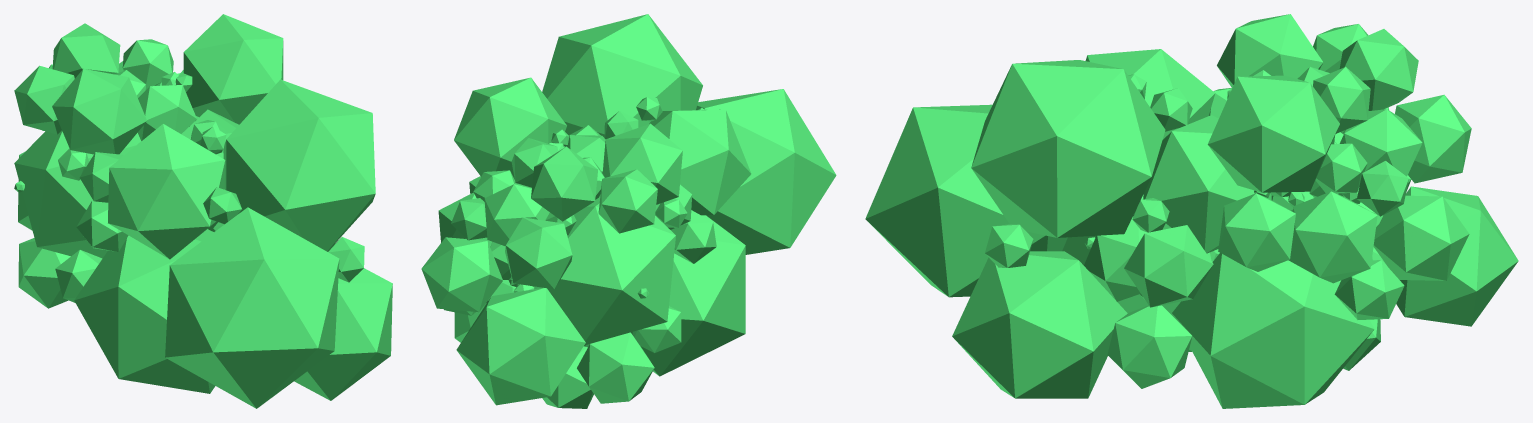
The model's file is bush.fbx.
3 views of the same model, side by side, from view 1: azimuth 30°, elevation 25°; view 2: azimuth 150°, elevation 25°; view 3: azimuth 270°, elevation 25° (orthographic). The views are drawn at different scales.
Visible parts, largest first — view 1: Platonic_52, Platonic_74, Platonic_46, Platonic_64, Platonic_4, Platonic_58, Platonic_42, Platonic_1_67, Platonic_1_69, Platonic_1_57, Platonic_40, Platonic_18 (+10 smaller); view 2: Platonic_52, Platonic_74, Platonic_42, Platonic_44, Platonic_46, Platonic_4, Platonic_64, Platonic_20, Platonic_1_67, Platonic_40, Platonic_1_21, Platonic_1_69 (+16 smaller); view 3: Platonic_74, Platonic_28, Platonic_58, Platonic_52, Platonic_4, Platonic_44, Platonic_34, Platonic_20, Platonic_22, Platonic_1_5, Platonic_1_23, Platonic_1_67 (+16 smaller).
Boxes of the visible parts, <box> form: Platonic_52: <box>165,207,339,408</box>; Platonic_74: <box>223,79,375,251</box>; Platonic_46: <box>74,229,215,393</box>; Platonic_64: <box>108,124,225,259</box>; Platonic_4: <box>183,14,283,124</box>; Platonic_58: <box>294,268,392,400</box>; Platonic_42: <box>14,130,141,258</box>; Platonic_1_67: <box>52,68,146,154</box>; Platonic_1_69: <box>52,23,120,78</box>; Platonic_1_57: <box>14,65,74,134</box>; Platonic_40: <box>18,238,70,308</box>; Platonic_18: <box>137,85,196,140</box>; Platonic_52: <box>696,89,836,254</box>; Platonic_74: <box>542,14,702,137</box>; Platonic_42: <box>533,194,675,345</box>; Platonic_44: <box>456,287,585,405</box>; Platonic_46: <box>631,215,745,376</box>; Platonic_4: <box>454,77,566,179</box>; Platonic_64: <box>649,109,751,215</box>; Platonic_20: <box>421,237,502,312</box>; Platonic_1_67: <box>602,123,682,204</box>; Platonic_40: <box>577,332,654,403</box>; Platonic_1_21: <box>505,217,572,289</box>; Platonic_1_69: <box>531,146,597,221</box>; Platonic_74: <box>971,60,1165,237</box>; Platonic_28: <box>1172,253,1374,408</box>; Platonic_58: <box>952,251,1127,398</box>; Platonic_52: <box>865,104,1067,297</box>; Platonic_4: <box>1207,75,1339,192</box>; Platonic_44: <box>1396,186,1518,326</box>; Platonic_34: <box>1143,115,1271,253</box>; Platonic_20: <box>1373,195,1469,280</box>; Platonic_22: <box>1288,191,1377,283</box>; Platonic_1_5: <box>1124,225,1213,307</box>; Platonic_1_23: <box>1107,305,1192,388</box>; Platonic_1_67: <box>1217,14,1323,87</box>.
Bounding box in the file's own units: 56.14 × 68.91 × 123.
